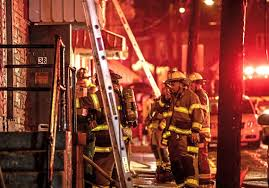emergent: (84, 70, 135, 183), (164, 72, 200, 180)
